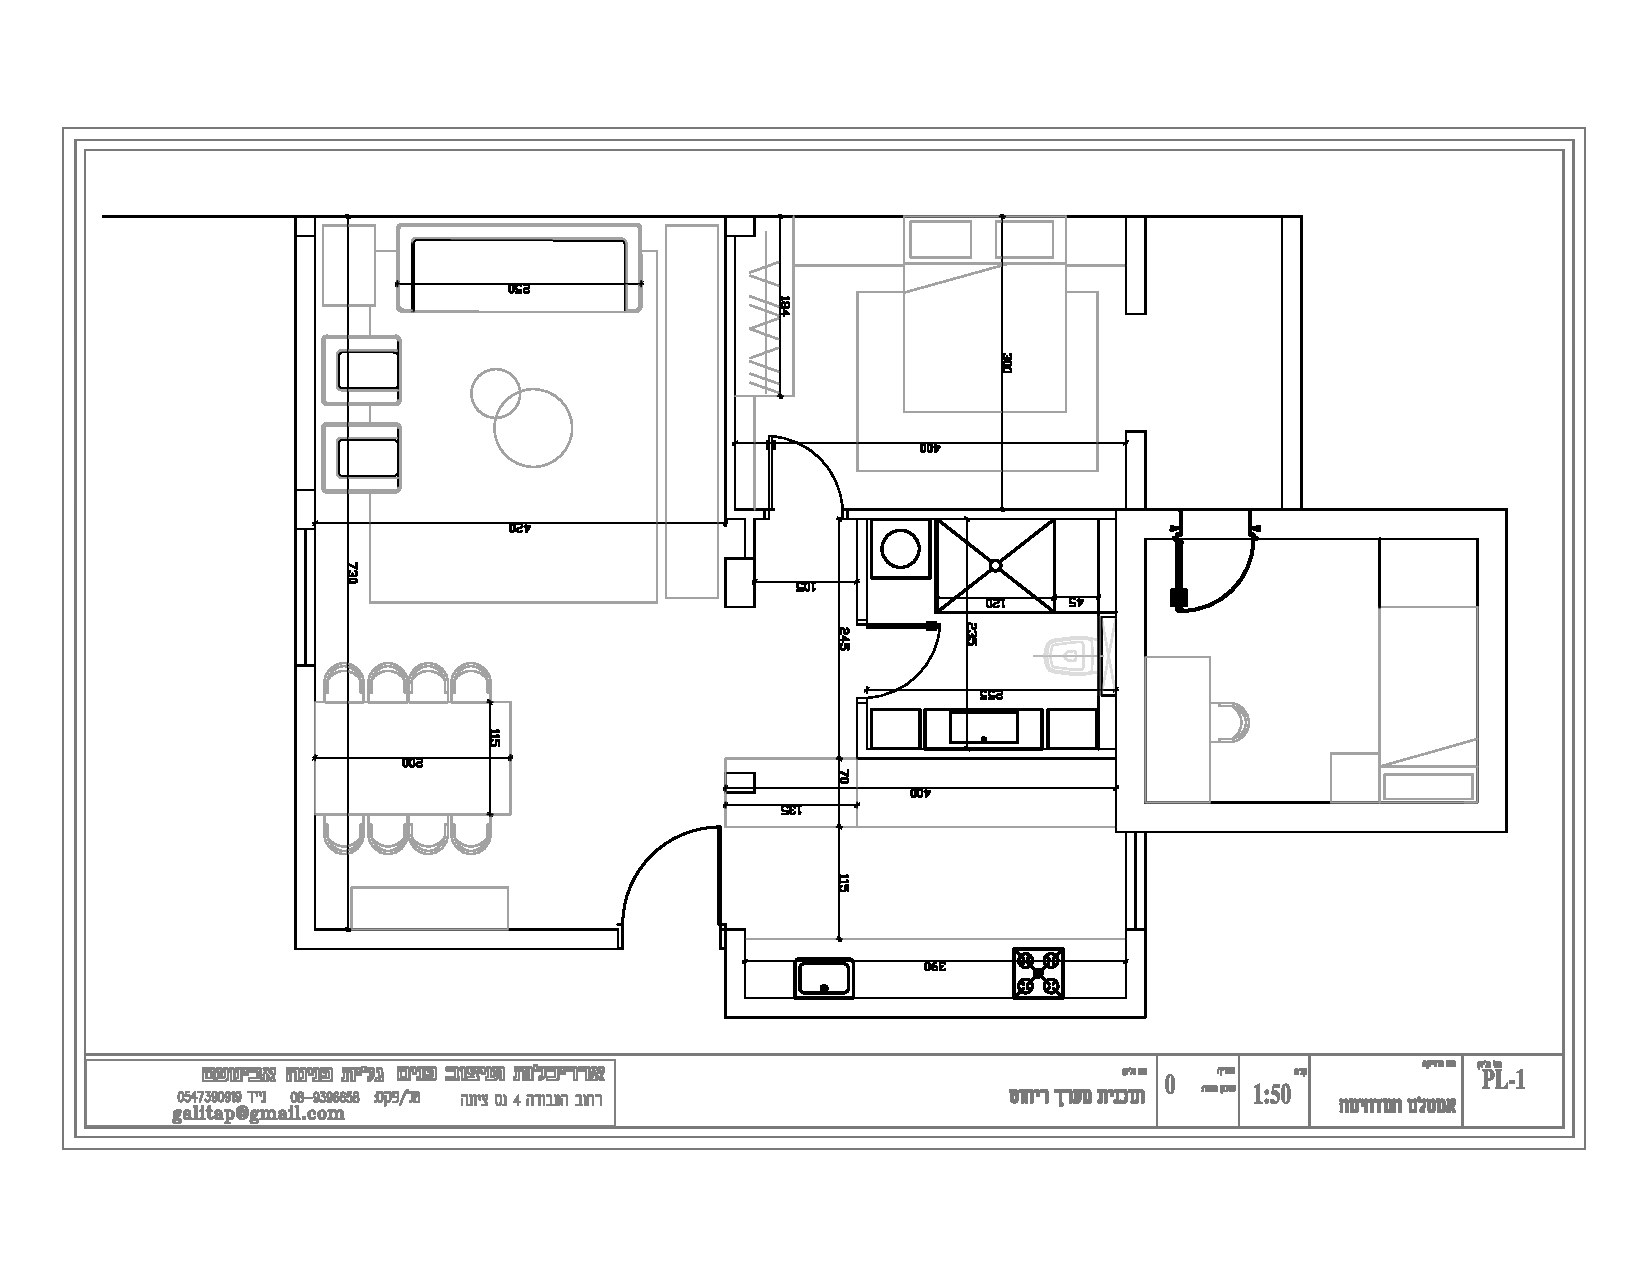door: (613, 829, 737, 921), (1161, 549, 1278, 646)
wall: (1117, 802, 1476, 829), (1476, 513, 1505, 834), (1282, 217, 1302, 510), (296, 929, 592, 946)
